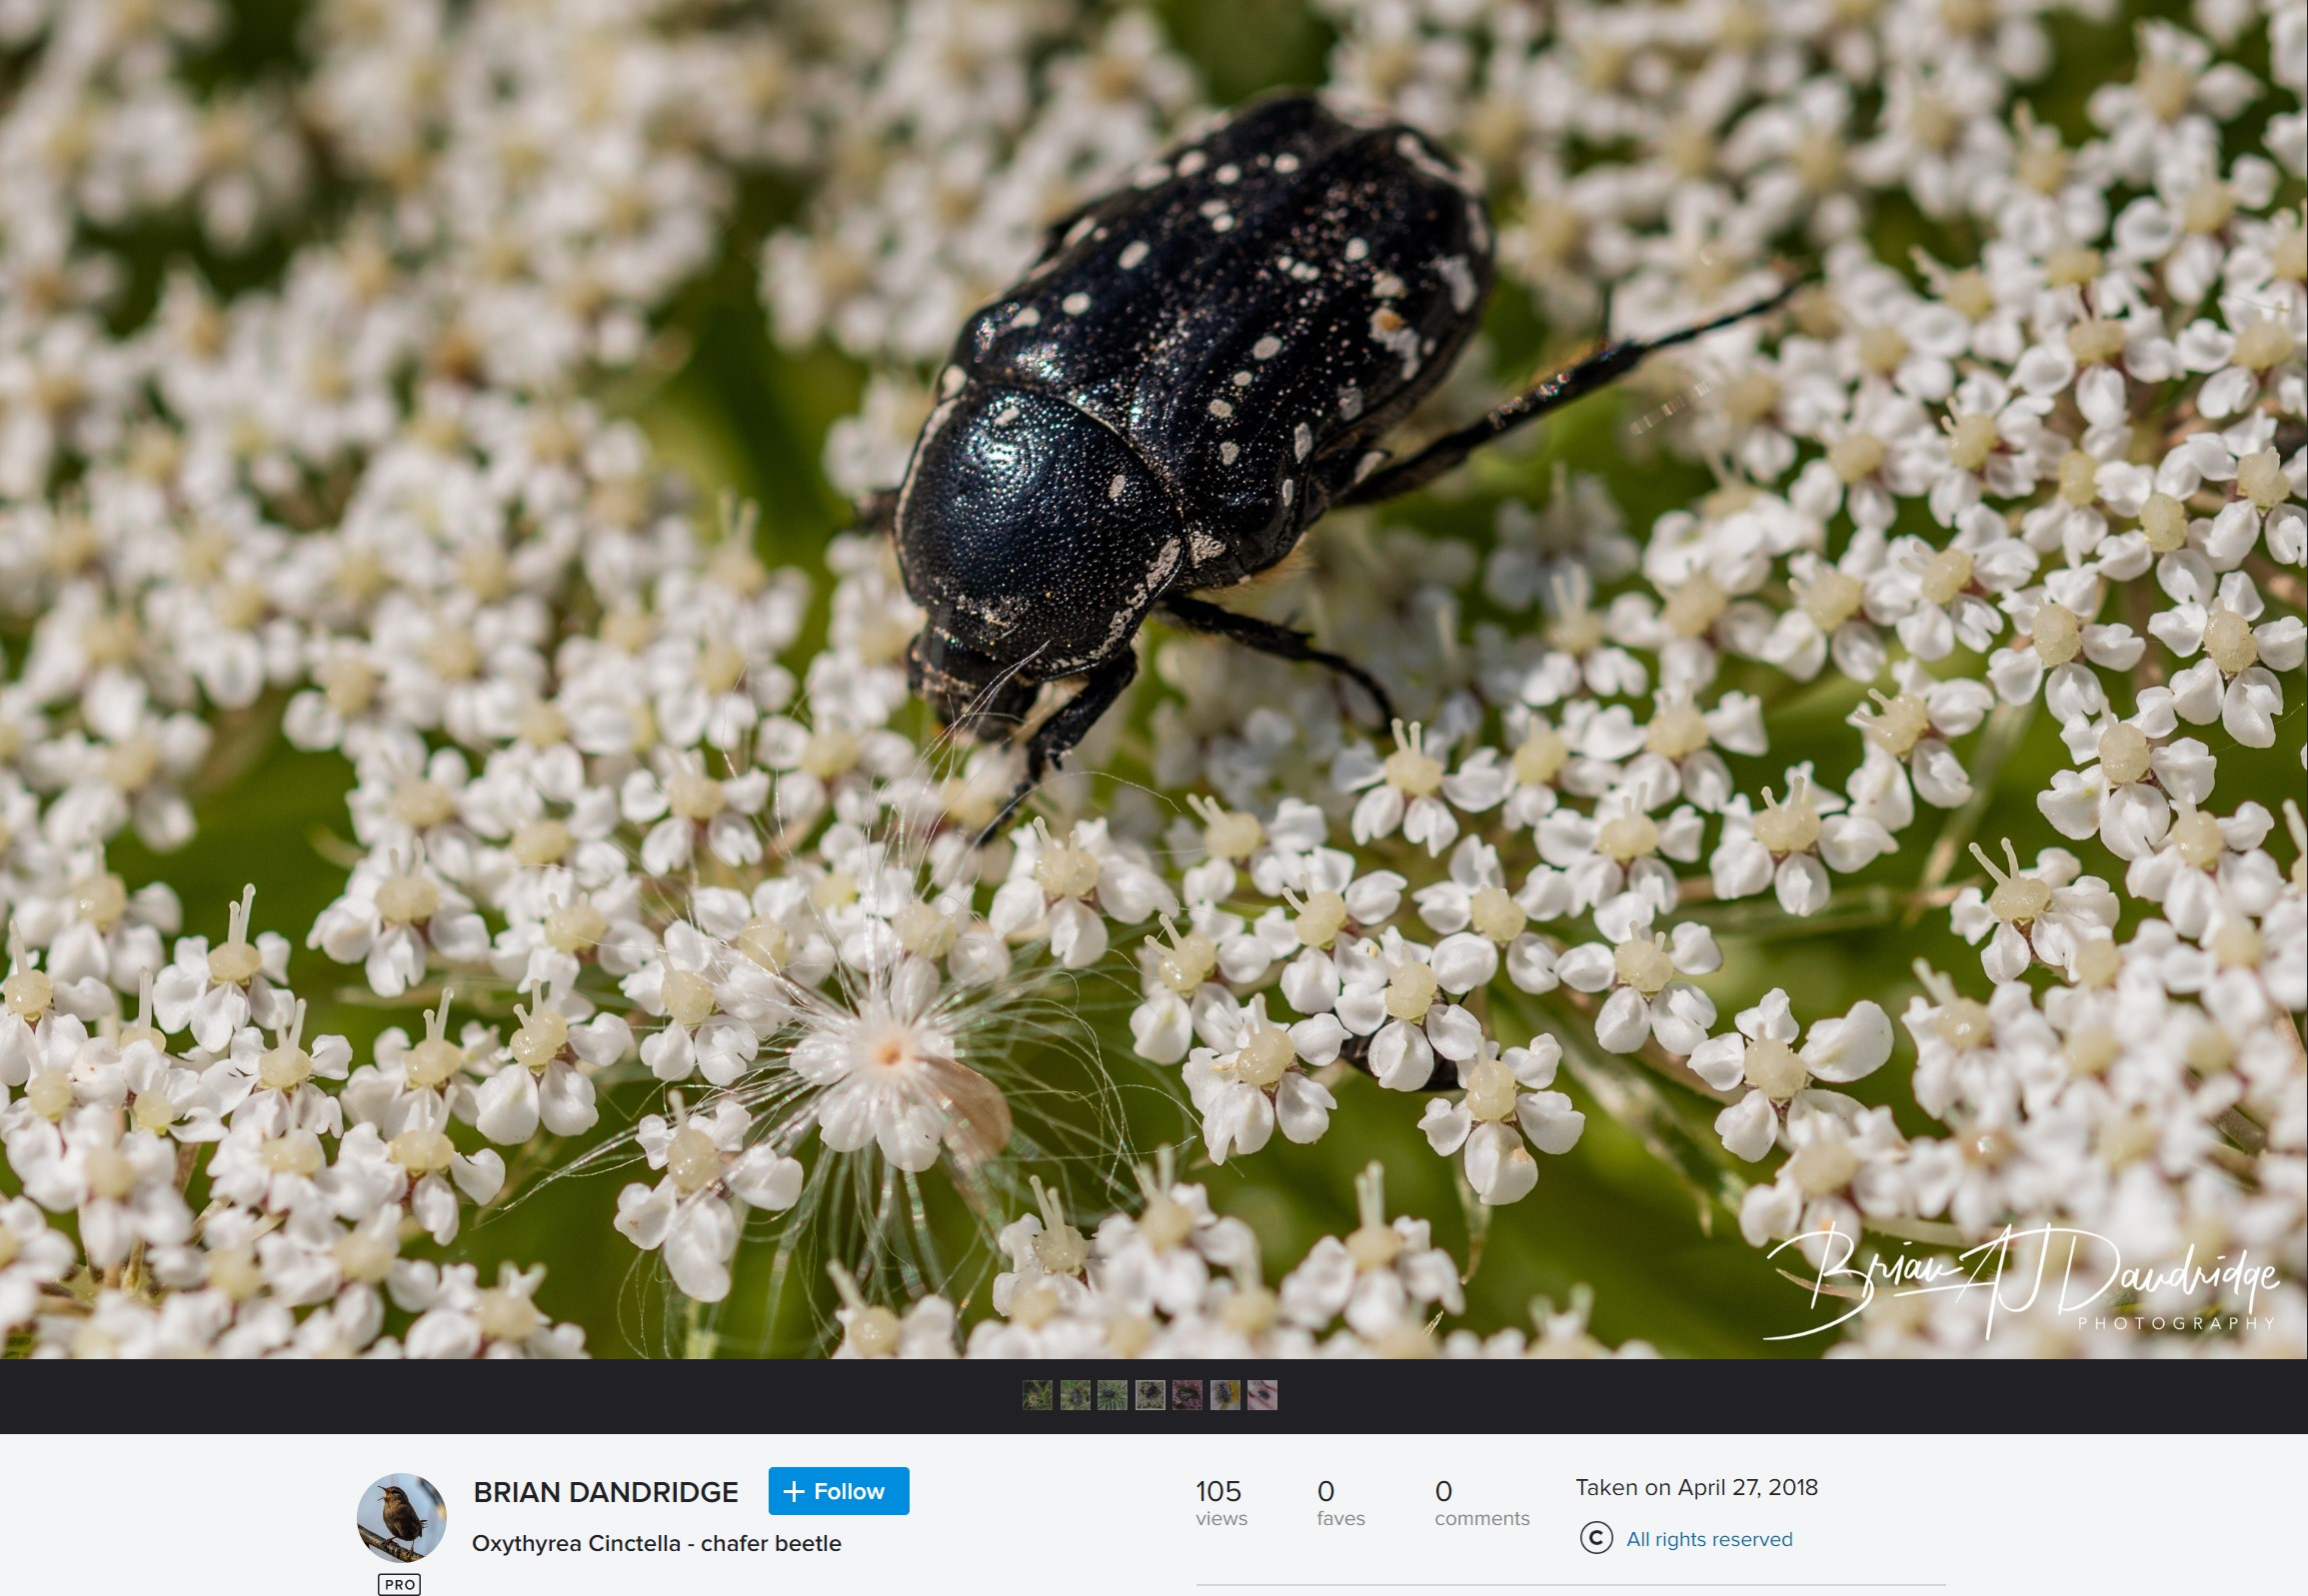Oxythyrea_cinctella: (814, 96, 1852, 807)
